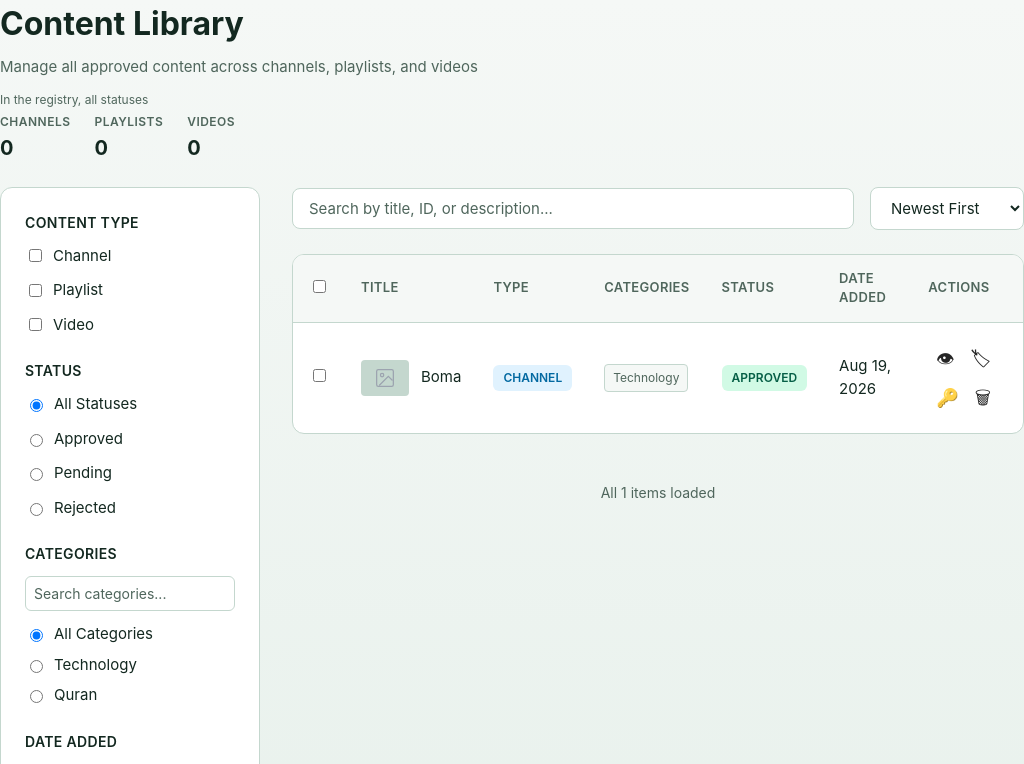
ContentLibraryView — Assign Categories modal › opens with the categories already assigned to the item checked
The image size is (1024, 764).
What coordinates should you click on to do the following:
click the button titled "Categories"
I would click on:
 (981, 358)
Its box is top-left (962, 338), bottom-right (999, 378).
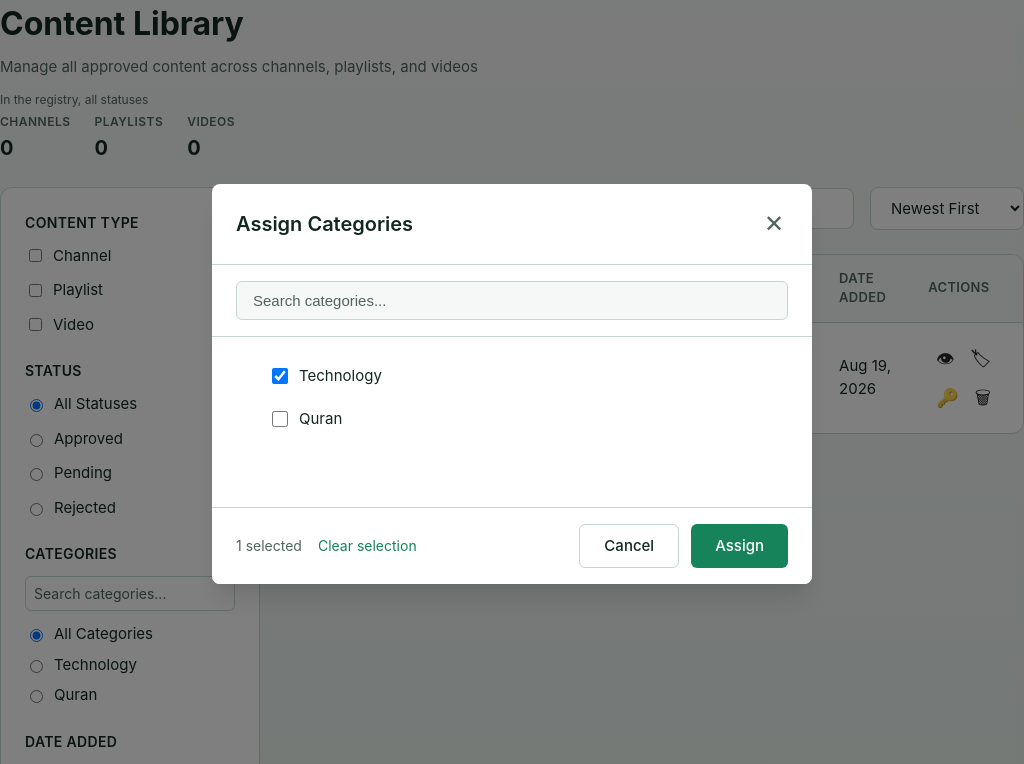
Expected: the text "Technology" is shown, top-left (299, 365), bottom-right (382, 388)
Expected: the checkbox labelled "Technology" is checked, top-left (272, 368), bottom-right (288, 384)
Expected: the checkbox labelled "Quran" is not checked, top-left (272, 411), bottom-right (288, 427)
